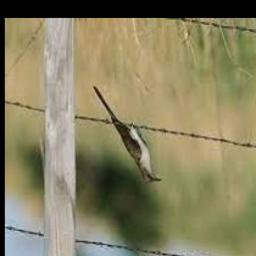Cuckoo: (94, 86, 163, 184)
